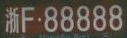F: (22, 7, 34, 33)
